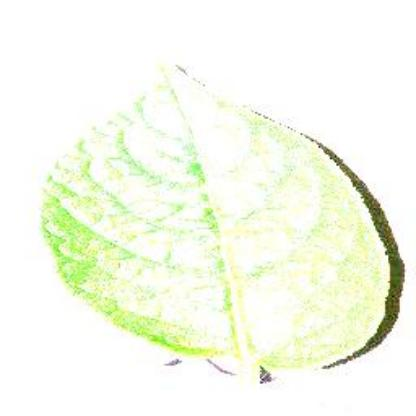Healthy-plant: (31, 56, 407, 390)
